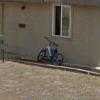Bicycle: (32, 32, 64, 67)
